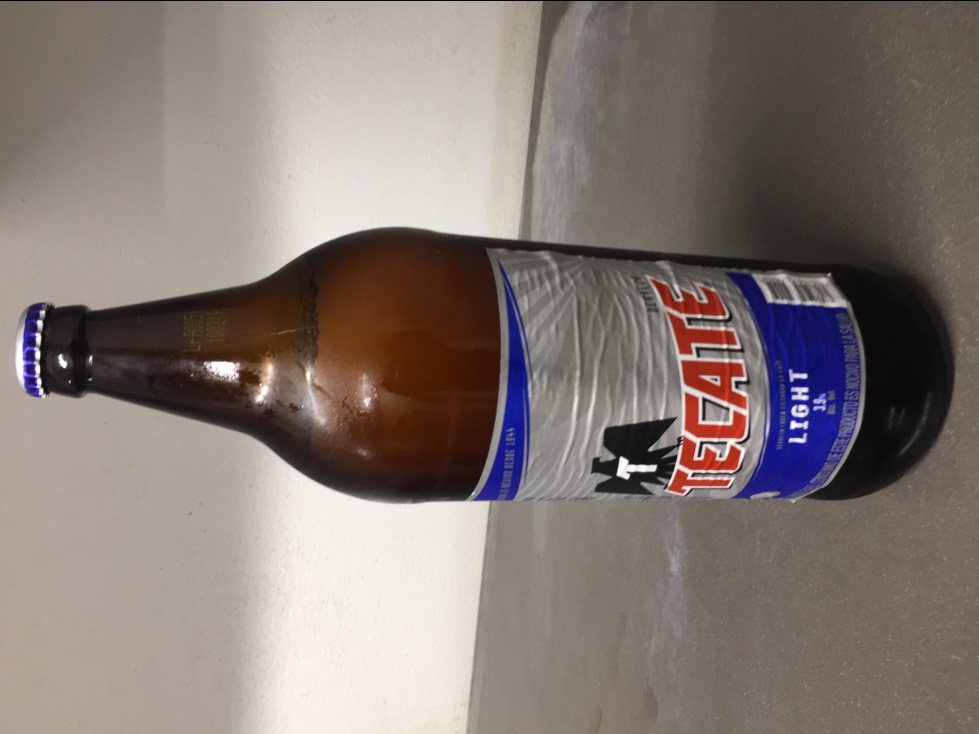tecateC: (14, 225, 942, 492)
